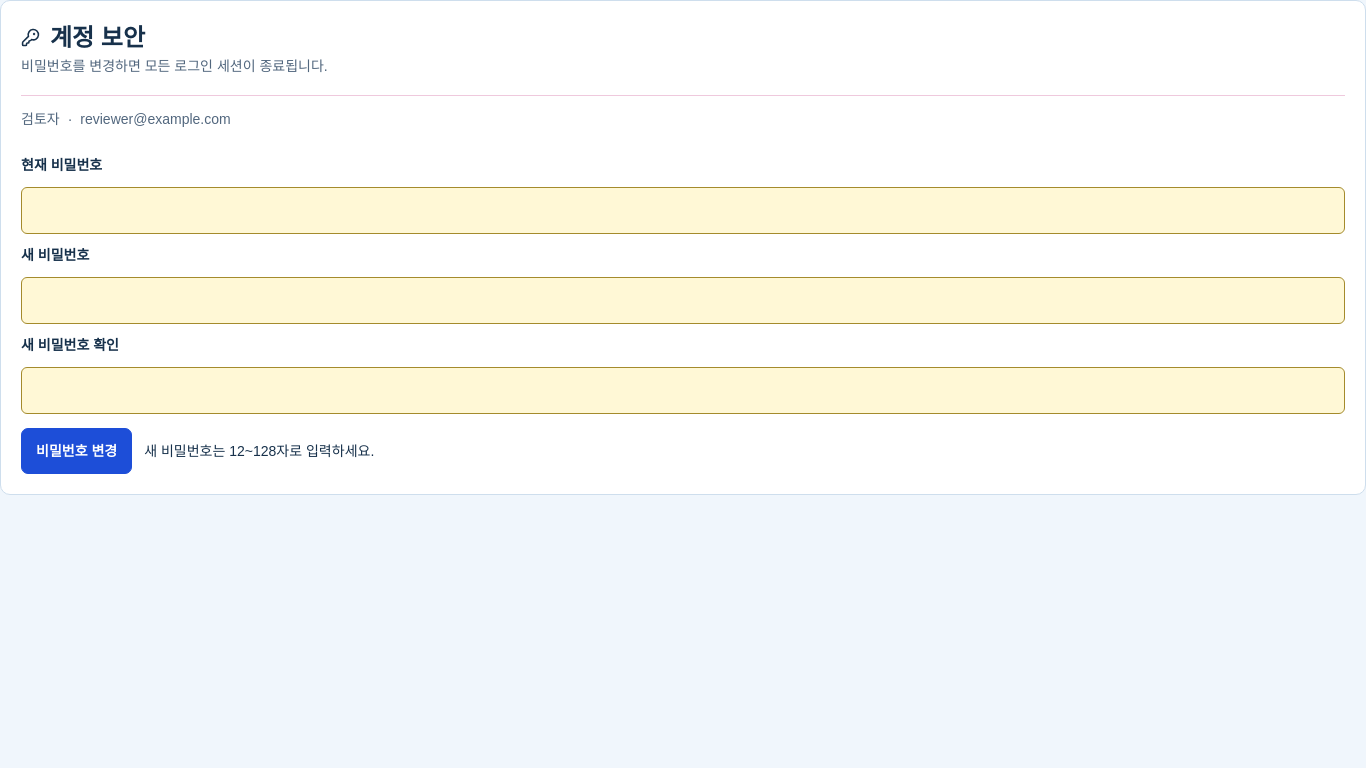
Test case: blocks mismatched values without sending a password request
Type "current-password" into the password field labelled "현재 비밀번호".
click(683, 211); type("current-password")  # box [21,187,1345,234]
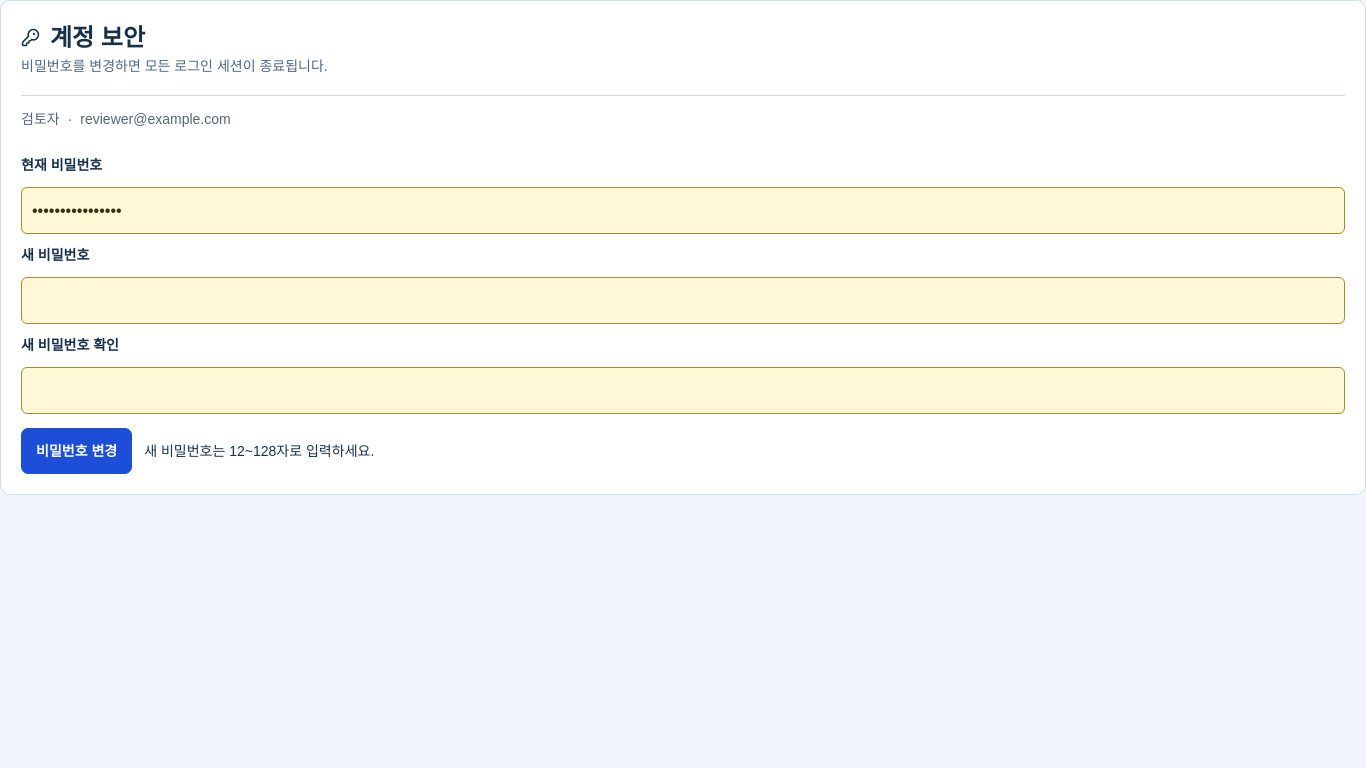
Type "new-password-123" into the password field labelled "새 비밀번호".
click(683, 301); type("new-password-123")  # box [21,277,1345,324]
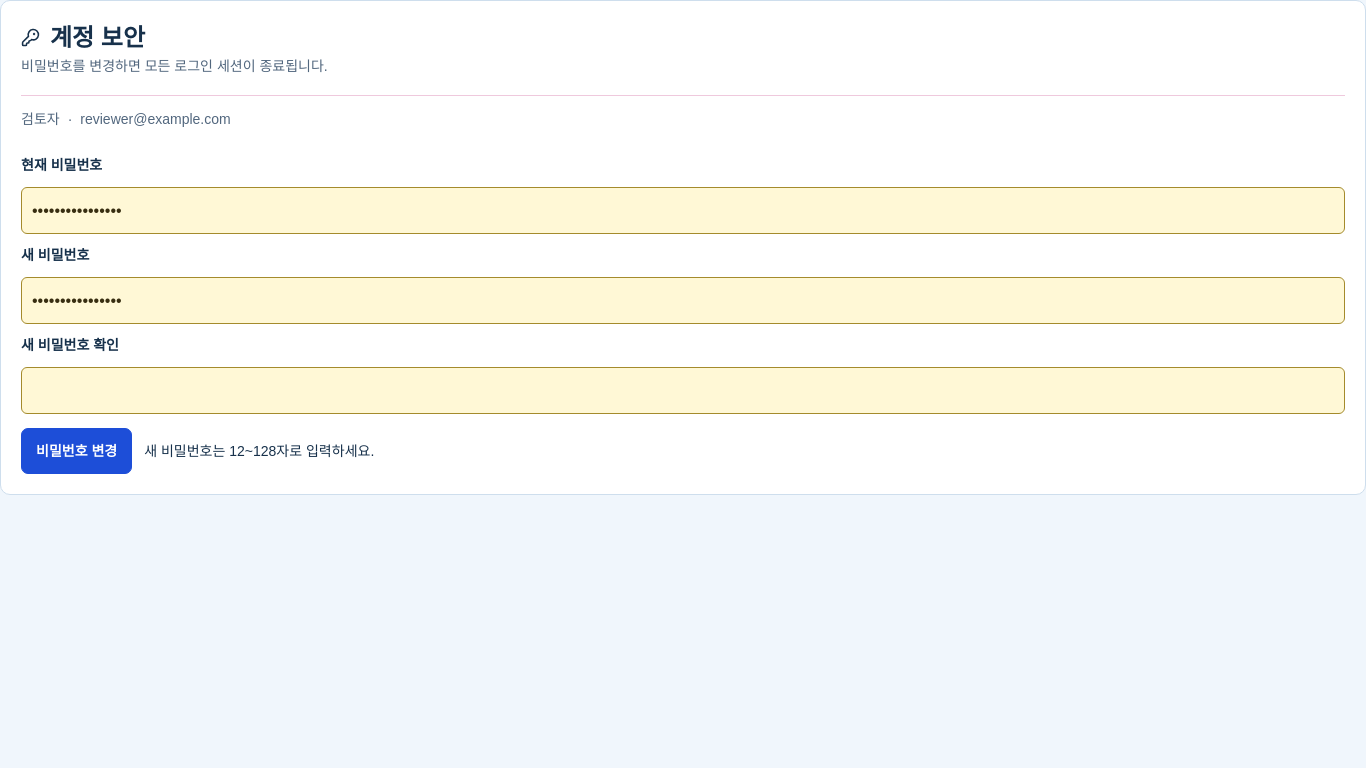
Type "new-password-123" into the password field labelled "새 비밀번호 확인".
click(683, 390); type("new-password-123")  # box [21,367,1345,414]
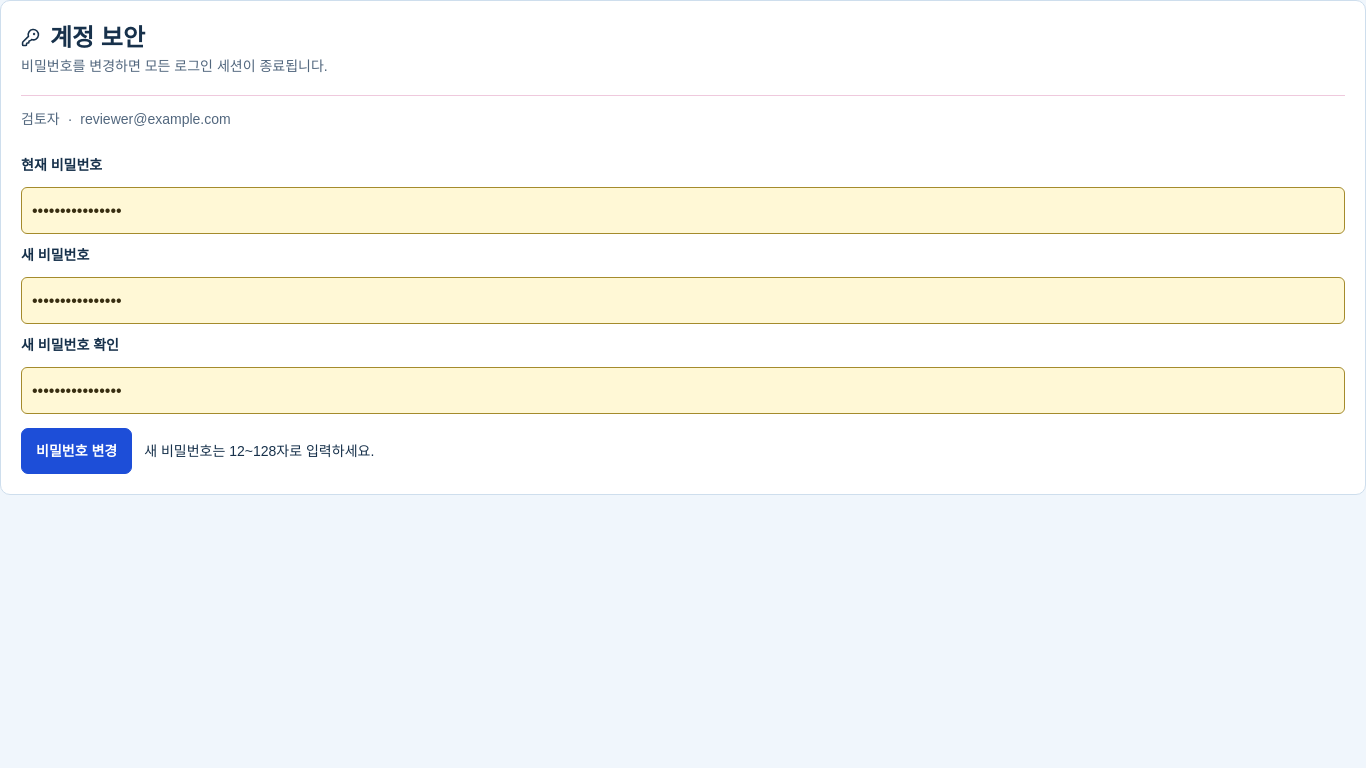
Type "a-different-password" into the password field labelled "새 비밀번호 확인".
click(683, 390); type("a-different-password")  # box [21,367,1345,414]
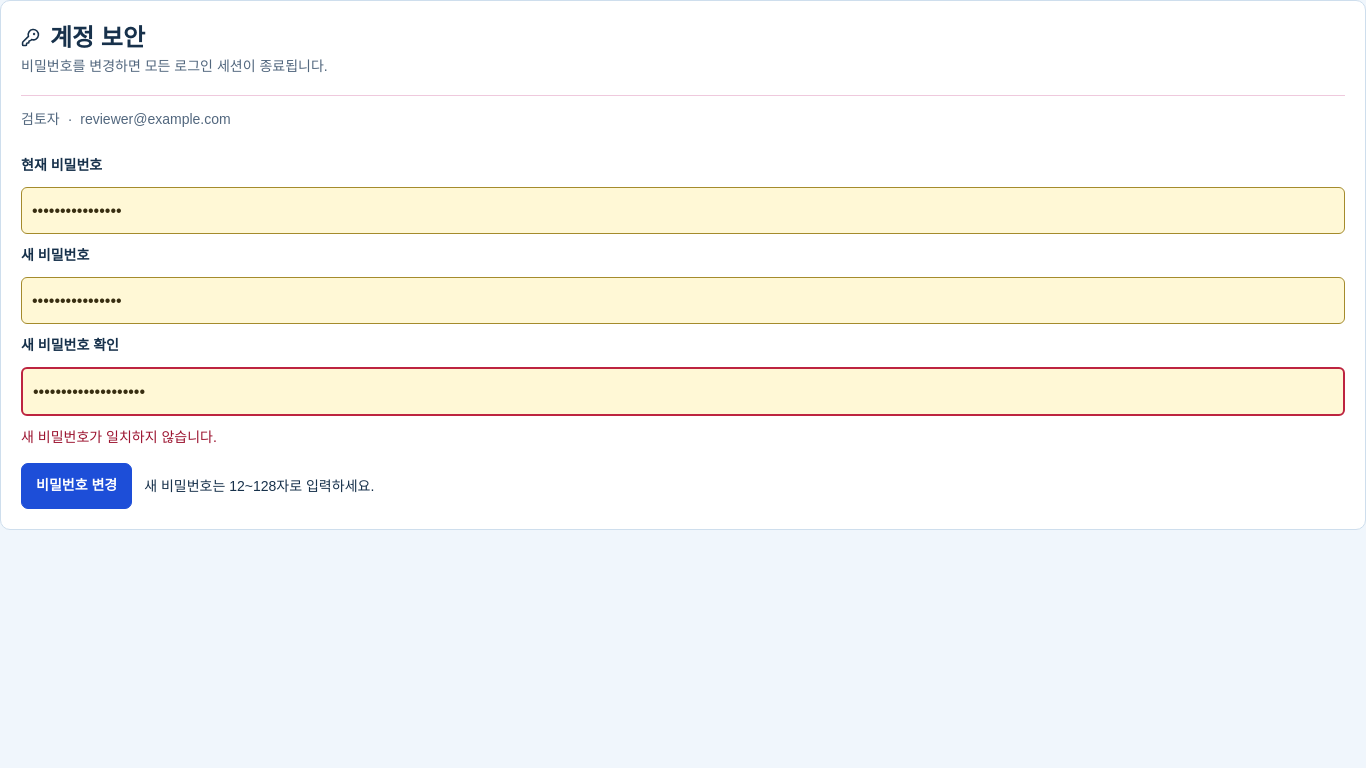
Submit the form "비밀번호 변경", box [21,154,1345,509]
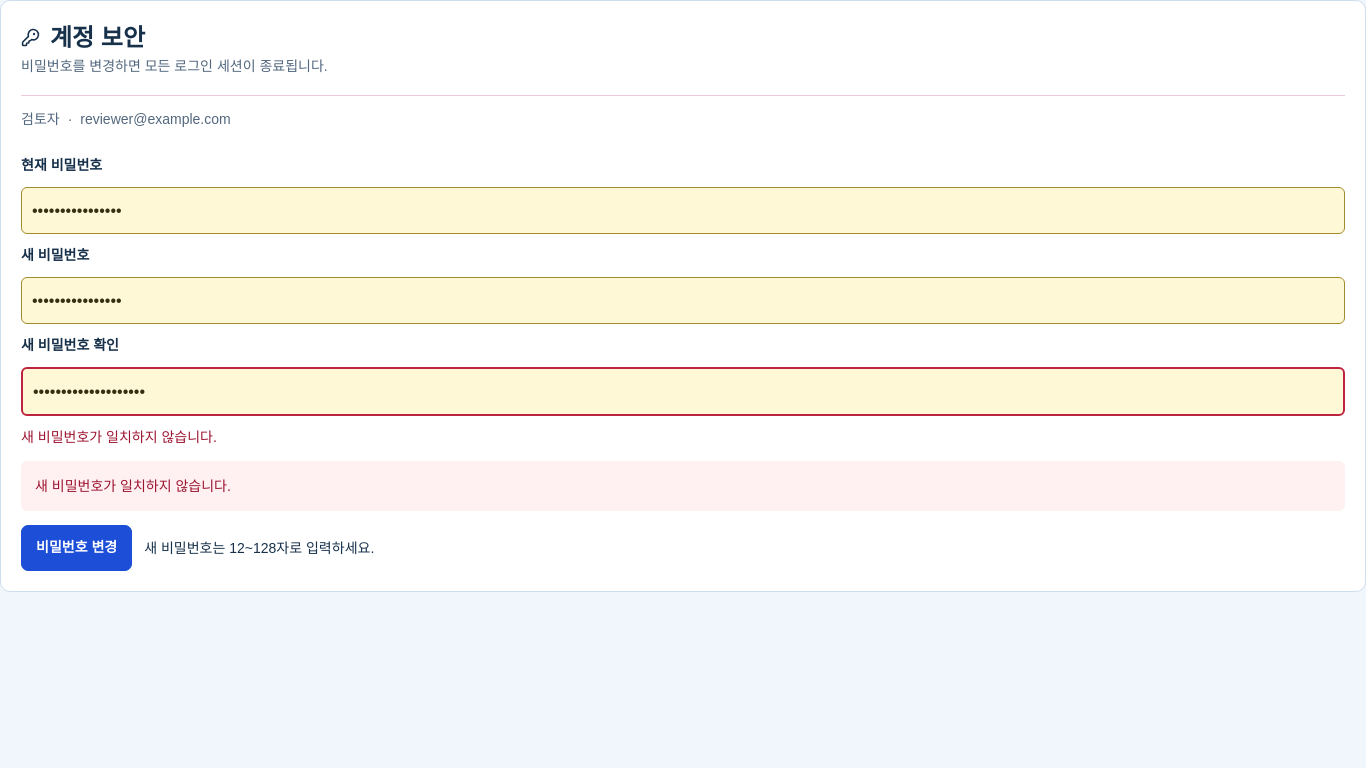
Check: the message reads "새 비밀번호가 일치하지 않습니다.", box [35,478,231,494]
